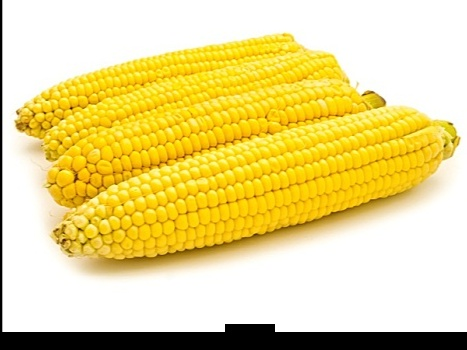corn: (59, 104, 447, 265), (42, 85, 372, 211), (38, 53, 334, 158)
